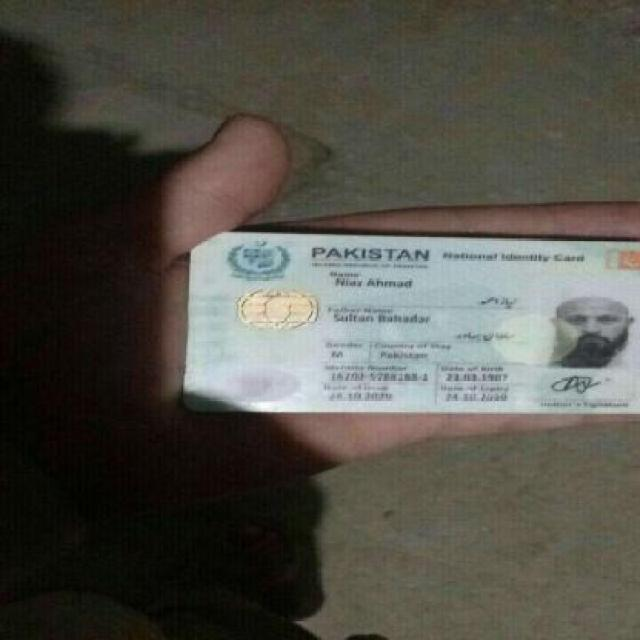Front: (166, 225, 631, 420)
